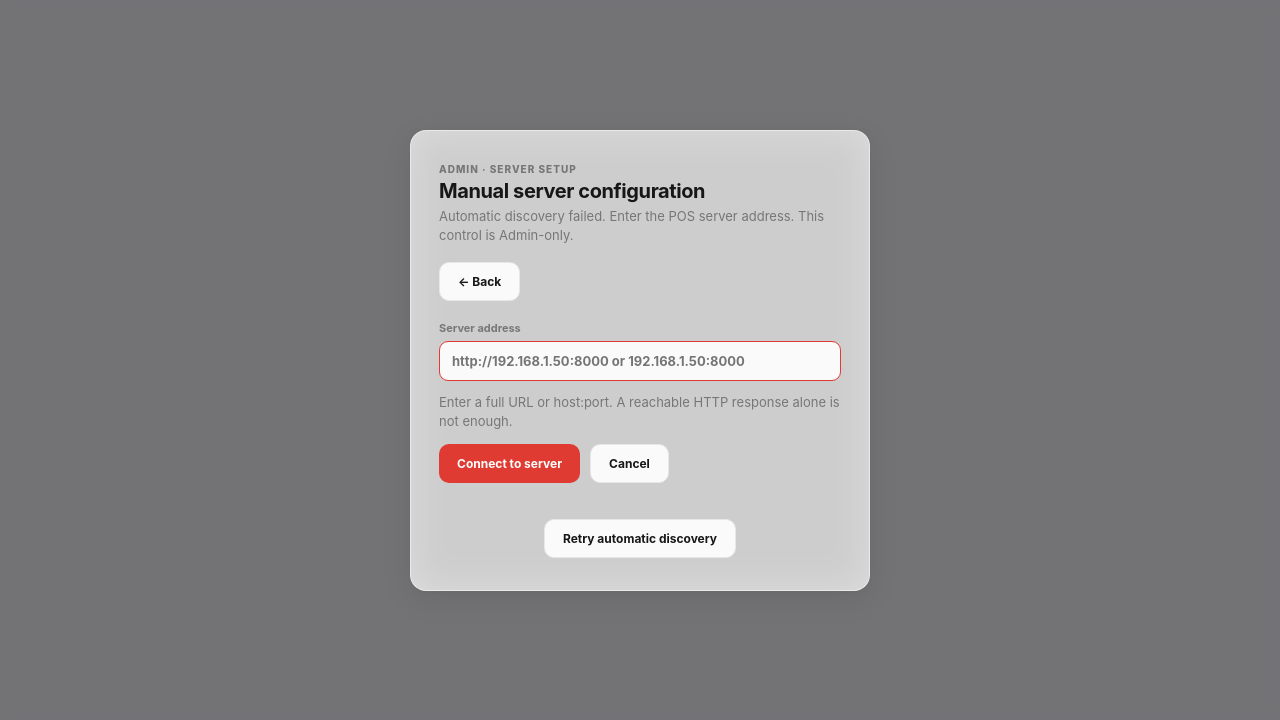
Test case: Admin manual fallback › rejects manual candidate with identity mismatch
The image size is (1280, 720).
Type "http://192.168.1.50:8000" into the field with placeholder "http://192.168.1.50:8000 or 192.168.1.50:8000".
click(640, 360); type("http://192.168.1.50:8000")  # box [439, 340, 841, 380]
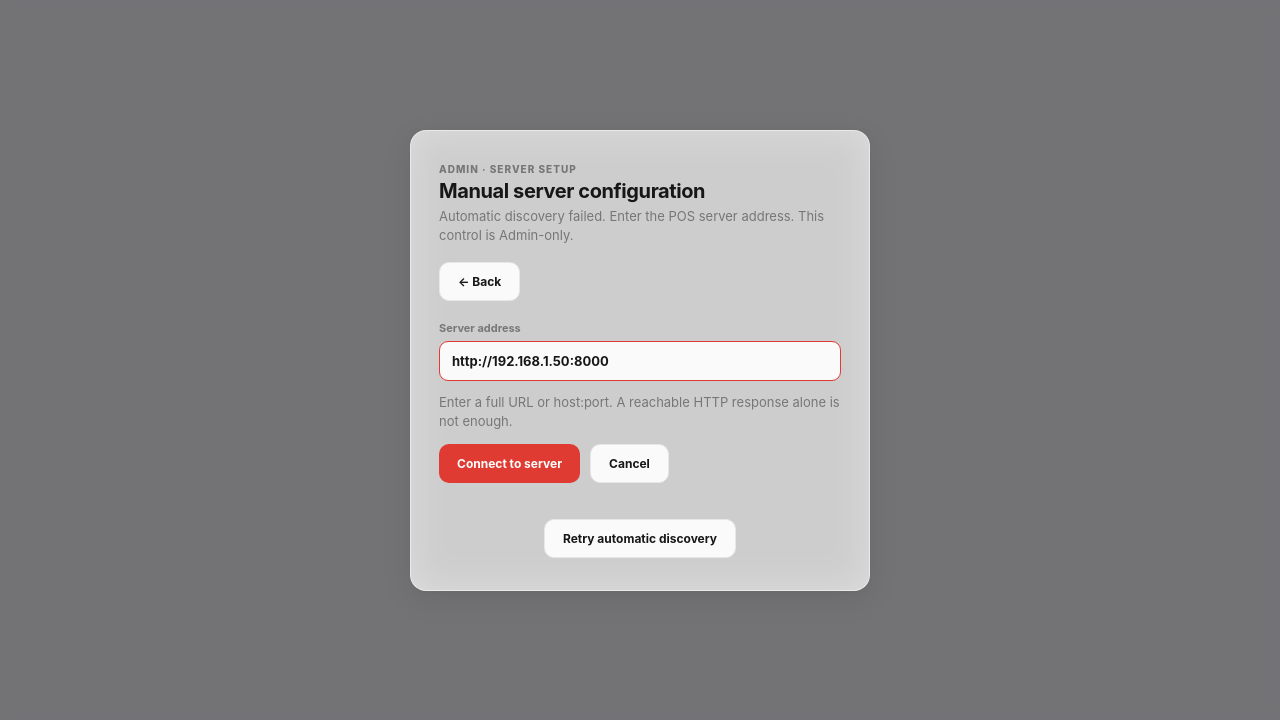
Click the button "Connect to server".
click(510, 463)  # box [439, 444, 580, 482]
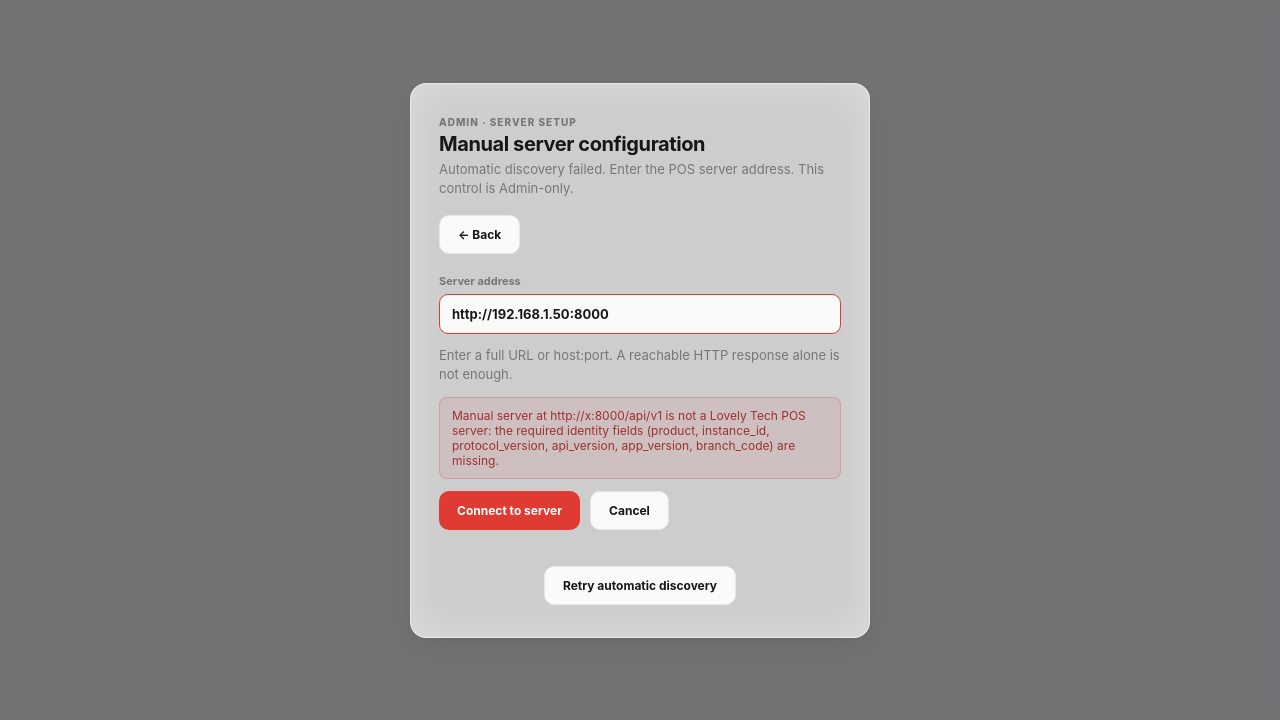
Check: the message shows "not a Lovely Tech POS server", box [452, 408, 806, 468]
